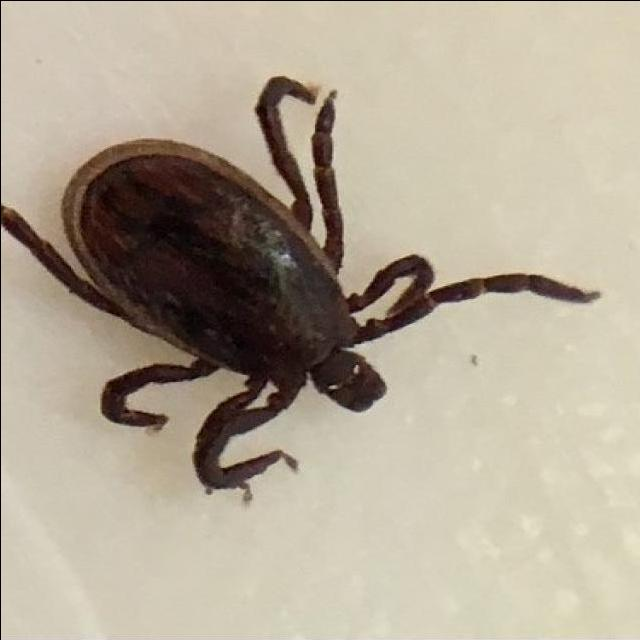Ixodes Ricinus-M: (0, 73, 599, 507)
